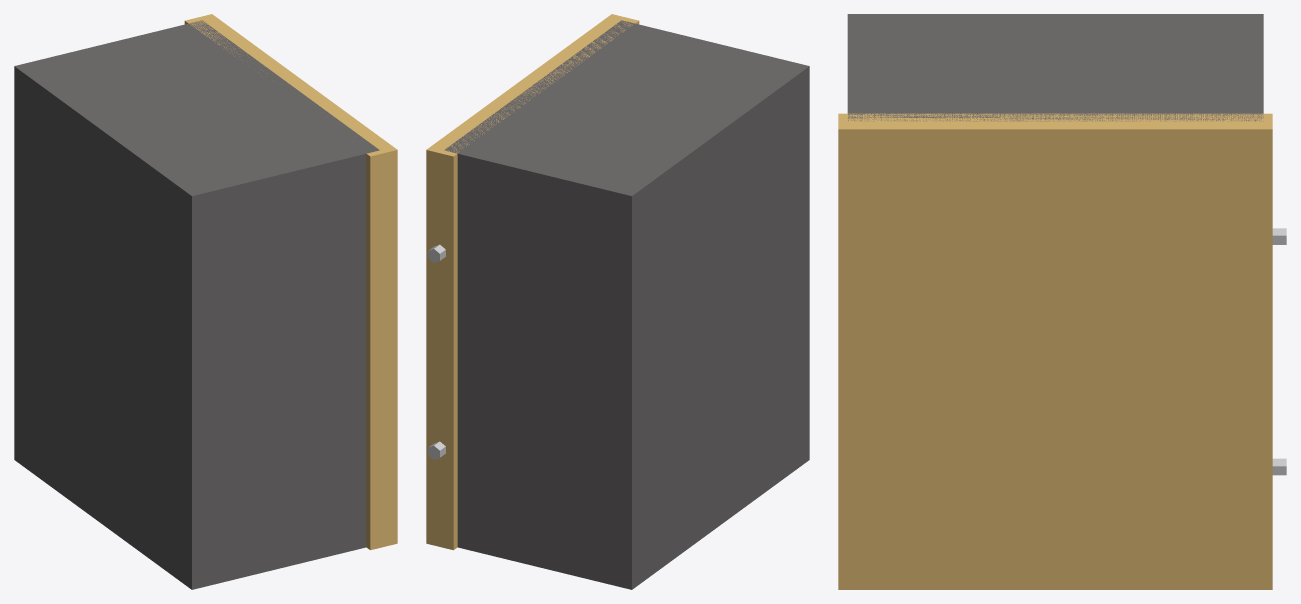
The model's file is CO_Tile_10.fbx.
The picture shows the model from 3 angles, left to right: view 1: azimuth 30°, elevation 25°; view 2: azimuth 150°, elevation 25°; view 3: azimuth 270°, elevation 25°; orthographic projection. The views are drawn at different scales.
Visible parts, largest first — view 1: CO_Tile_10; view 2: CO_Tile_10; view 3: CO_Tile_10.
Boxes of the visible parts, <box> form: CO_Tile_10: <box>14,14,397,589</box>; CO_Tile_10: <box>426,14,809,589</box>; CO_Tile_10: <box>838,14,1286,589</box>.
Size of the model in its own units: 0.59 by 1.1 by 0.97.
